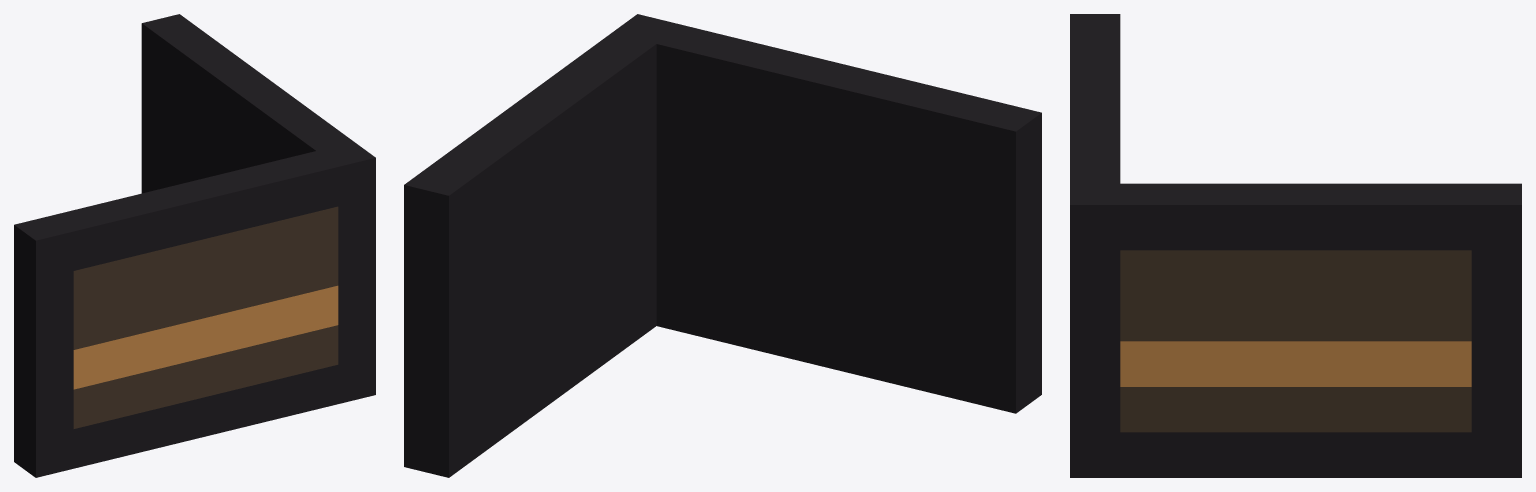
The model's file is archer_BracerR.glb.
The picture shows the model from 3 angles, left to right: view 1: azimuth 30°, elevation 25°; view 2: azimuth 150°, elevation 25°; view 3: azimuth 270°, elevation 25°; orthographic projection. The views are drawn at different scales.
Parts seen in each view (by area): view 1: archer_BracerR; view 2: archer_BracerR; view 3: archer_BracerR.
Boxes of the visible parts, x1,y1,x2,y2 form: archer_BracerR: (14,14,375,477); archer_BracerR: (404,14,1041,477); archer_BracerR: (1070,14,1521,477).
Size of the model in its own units: 1.12 by 0.75 by 1.12.
1 material, 1 textured.
